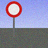sign: (6, 1, 22, 37)
